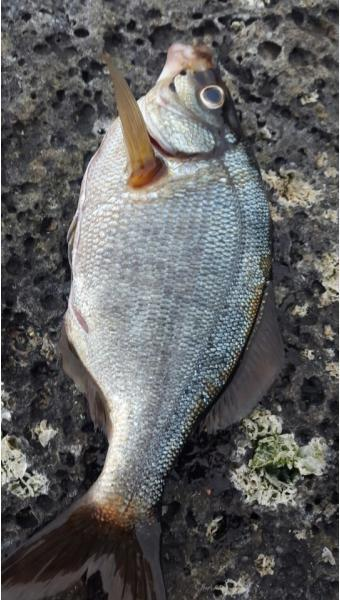fish: (0, 44, 285, 599)
